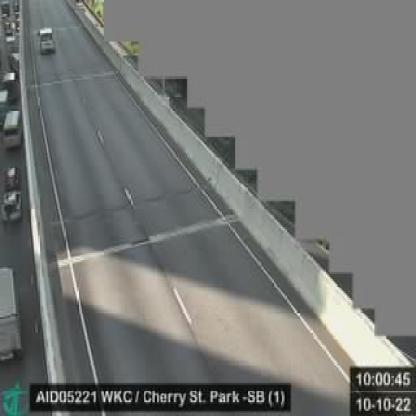Car: (0, 254, 25, 379), (2, 111, 22, 153), (37, 25, 55, 55)
